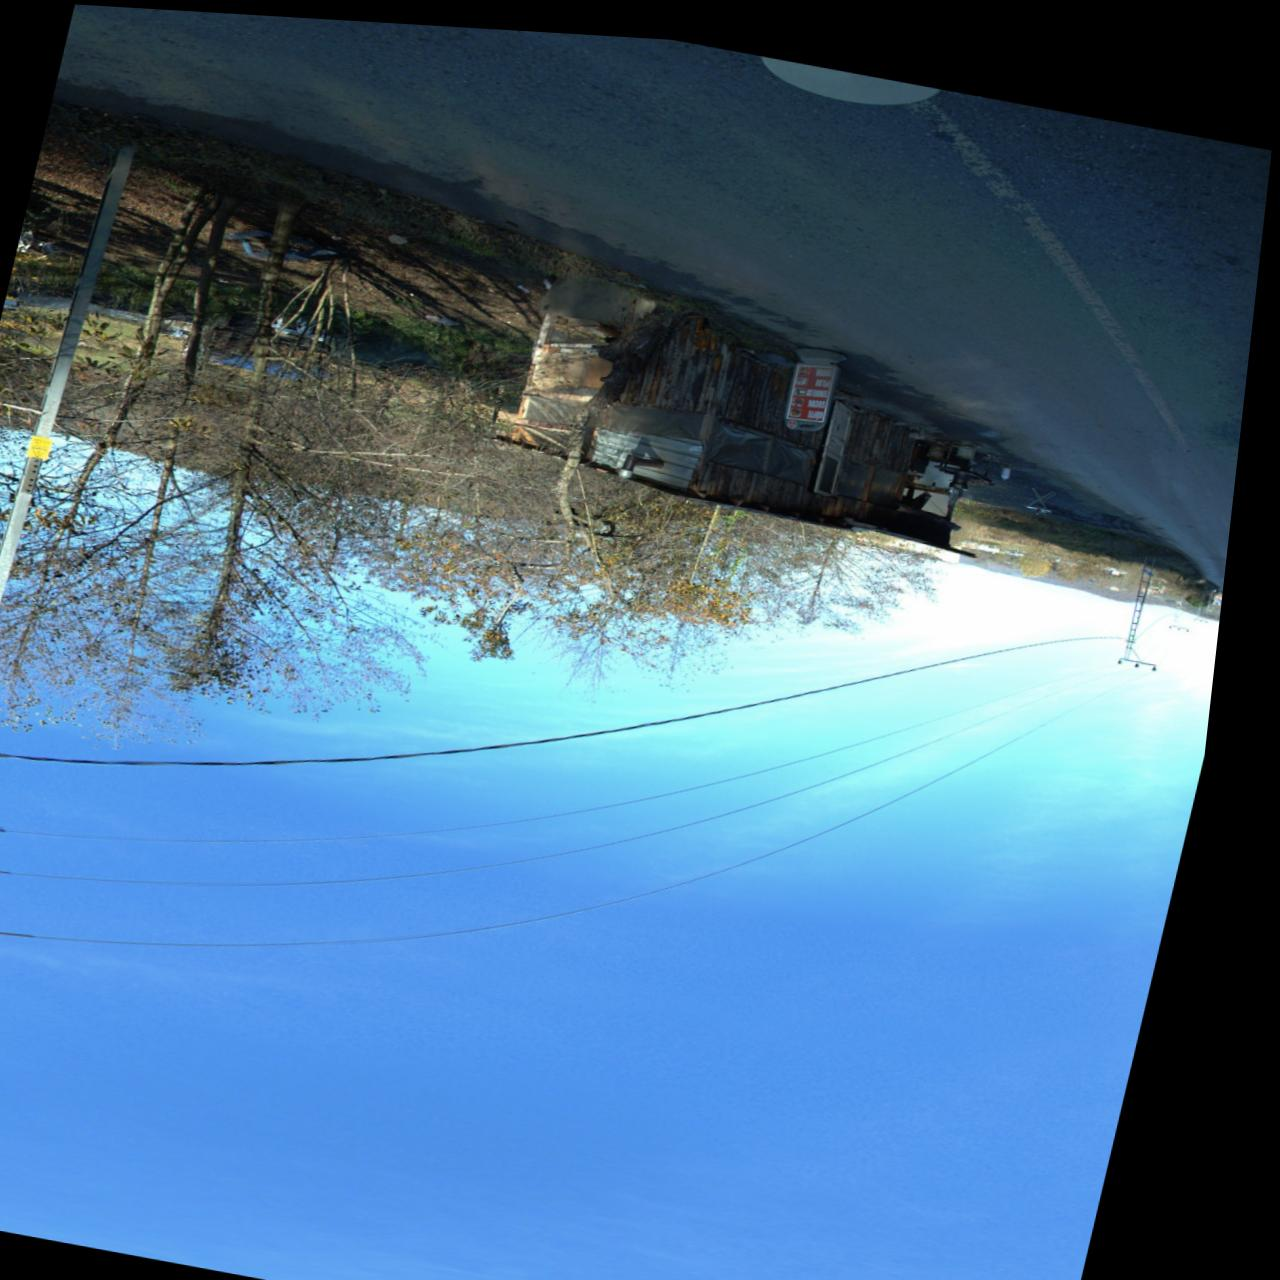Utility Pole Information Plate: (36, 433, 62, 458)
